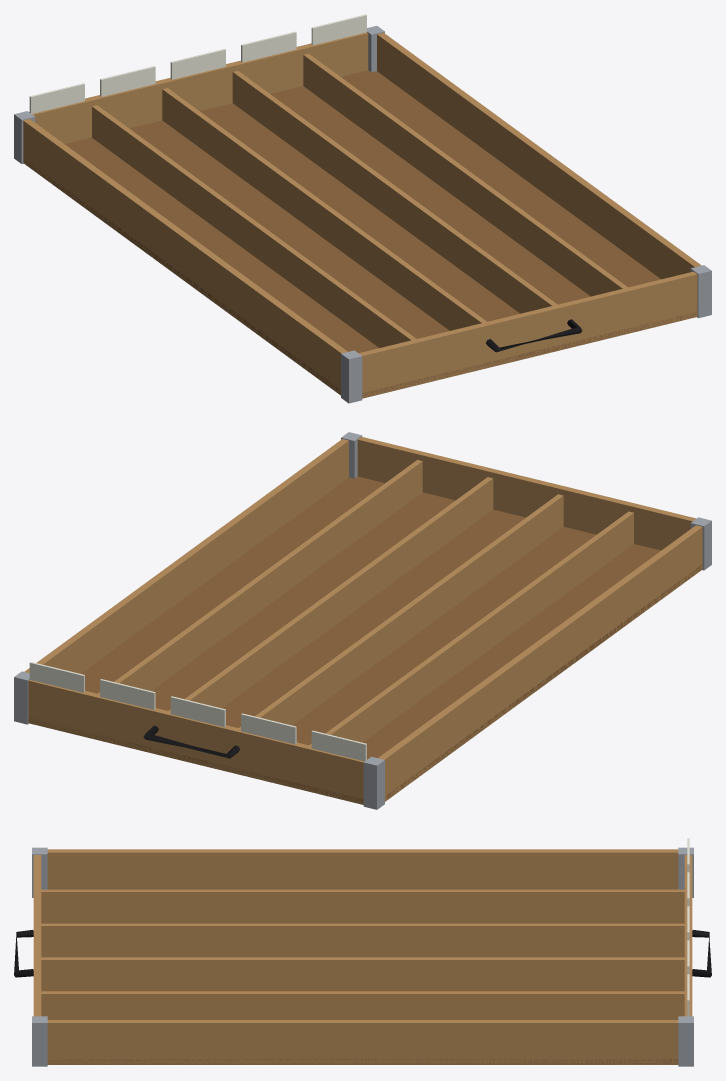
Rendered from CoreBox.obj.
3 views of the same model, one above another, from view 1: azimuth 30°, elevation 25°; view 2: azimuth 150°, elevation 25°; view 3: azimuth 270°, elevation 25° (orthographic).
Visible parts, largest first — view 1: CoreBox; view 2: CoreBox; view 3: CoreBox.
Part boxes in pixels (box(x1,y1,x2,y2)): CoreBox: box(14, 14, 711, 403); CoreBox: box(14, 432, 711, 809); CoreBox: box(14, 838, 711, 1066).
Bounding box in the file's own units: 1.34 × 0.213 × 2.26.
